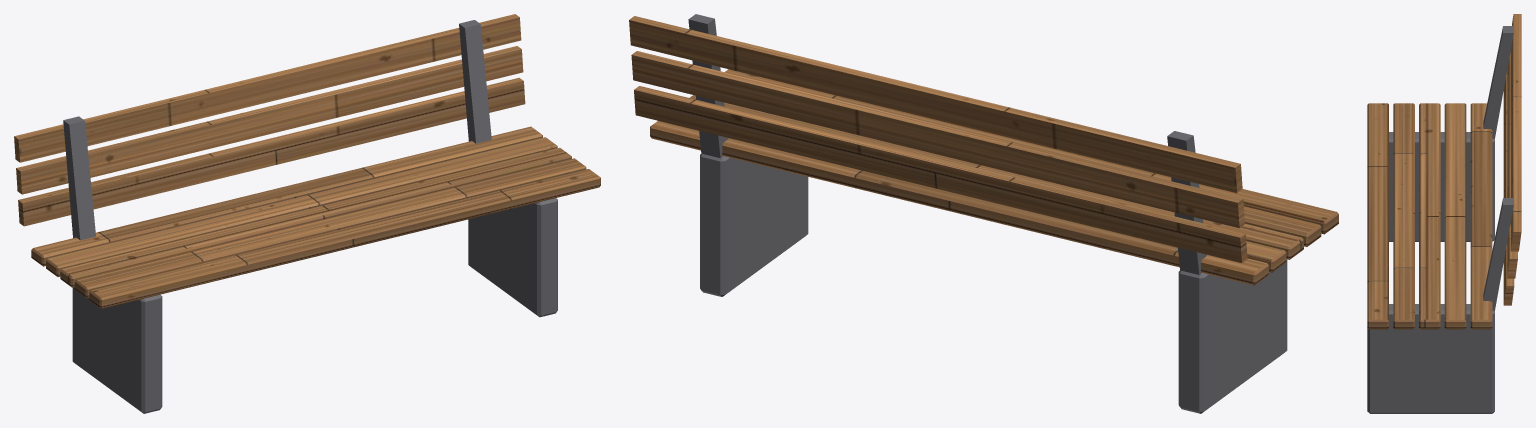
Rendered from bench.glb.
The picture shows the model from 3 angles, left to right: view 1: azimuth 30°, elevation 25°; view 2: azimuth 150°, elevation 25°; view 3: azimuth 270°, elevation 25°; orthographic projection. The views are drawn at different scales.
Visible parts, largest first — view 1: bench_wood, bench_iron; view 2: bench_wood, bench_iron; view 3: bench_wood, bench_iron.
Part boxes in pixels (x1,y1,x2,y2): bench_wood: [14, 14, 600, 308]; bench_iron: [63, 20, 557, 413]; bench_wood: [629, 16, 1338, 285]; bench_iron: [688, 14, 1287, 413]; bench_wood: [1367, 14, 1521, 329]; bench_iron: [1367, 26, 1513, 413].
Bounding box in the file's own units: 1.9 × 0.85 × 0.568.
2 materials, 1 textured.
